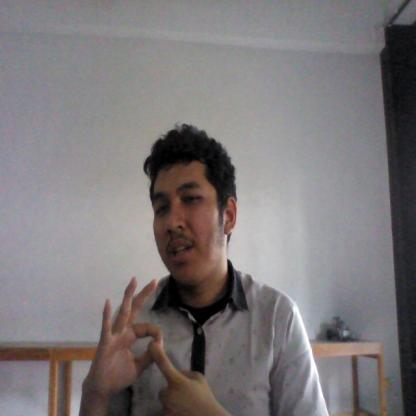Q: (95, 272, 214, 416)
